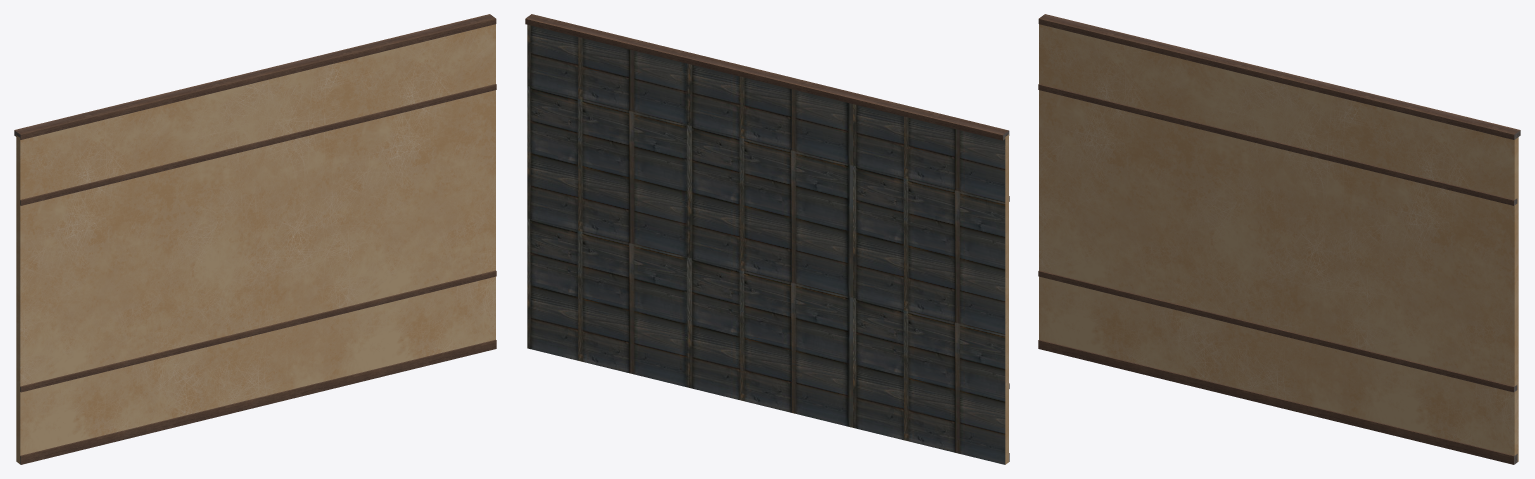
File: jov_outwall01_2t.fbx
3 views of the same model, side by side, from view 1: azimuth 30°, elevation 25°; view 2: azimuth 150°, elevation 25°; view 3: azimuth 330°, elevation 25° (orthographic).
Parts seen in each view (by area): view 1: jov_outwall01_2t; view 2: jov_outwall01_2t; view 3: jov_outwall01_2t.
Part boxes in pixels (x1,y1,x2,y2): jov_outwall01_2t: (14, 14, 496, 464); jov_outwall01_2t: (525, 14, 1009, 464); jov_outwall01_2t: (1038, 14, 1520, 464).
Bounding box in the file's own units: 440 × 292 × 11.05.
